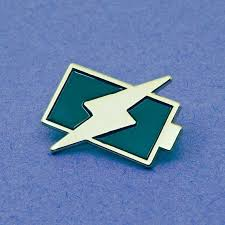charging sign: (34, 45, 199, 180)
